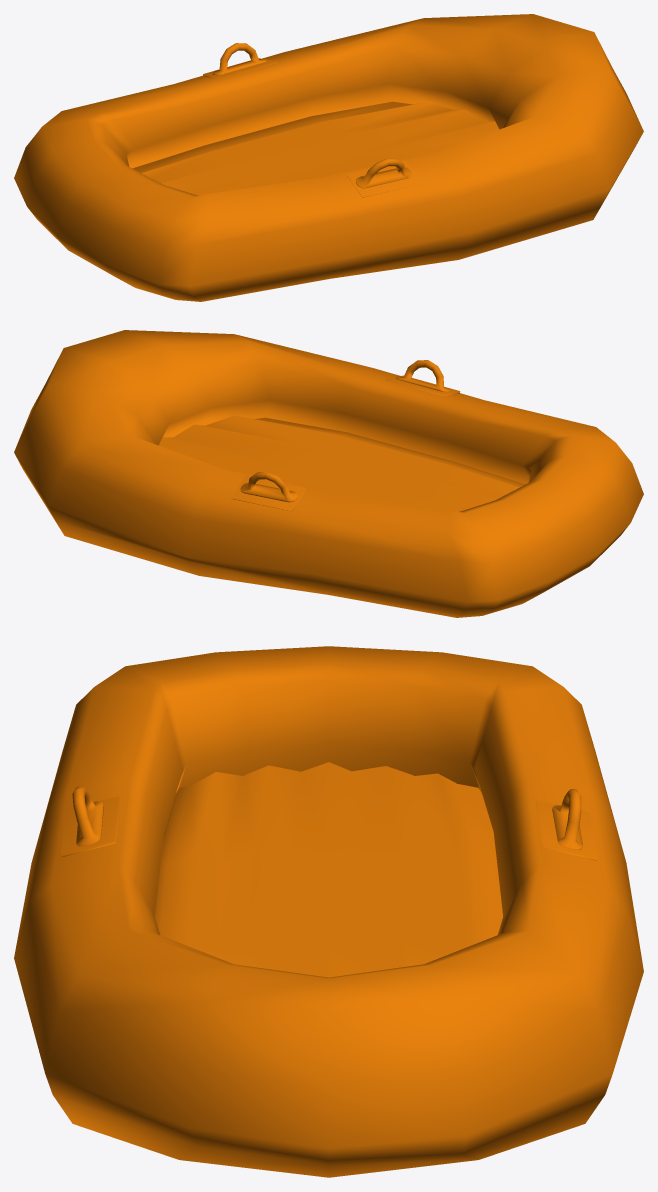
Rendered from Boat.fbx.
3 renders of one model, top to bottom at view 1: azimuth 30°, elevation 25°; view 2: azimuth 150°, elevation 25°; view 3: azimuth 270°, elevation 25°, orthographic. The views are drawn at different scales.
Visible parts, largest first — view 1: Boat; view 2: Boat; view 3: Boat.
Boxes of the visible parts, x1,y1,x2,y2 form: Boat: [14, 14, 643, 301]; Boat: [14, 330, 643, 617]; Boat: [14, 646, 643, 1177].
Size of the model in its own units: 1236 by 270 by 743.
